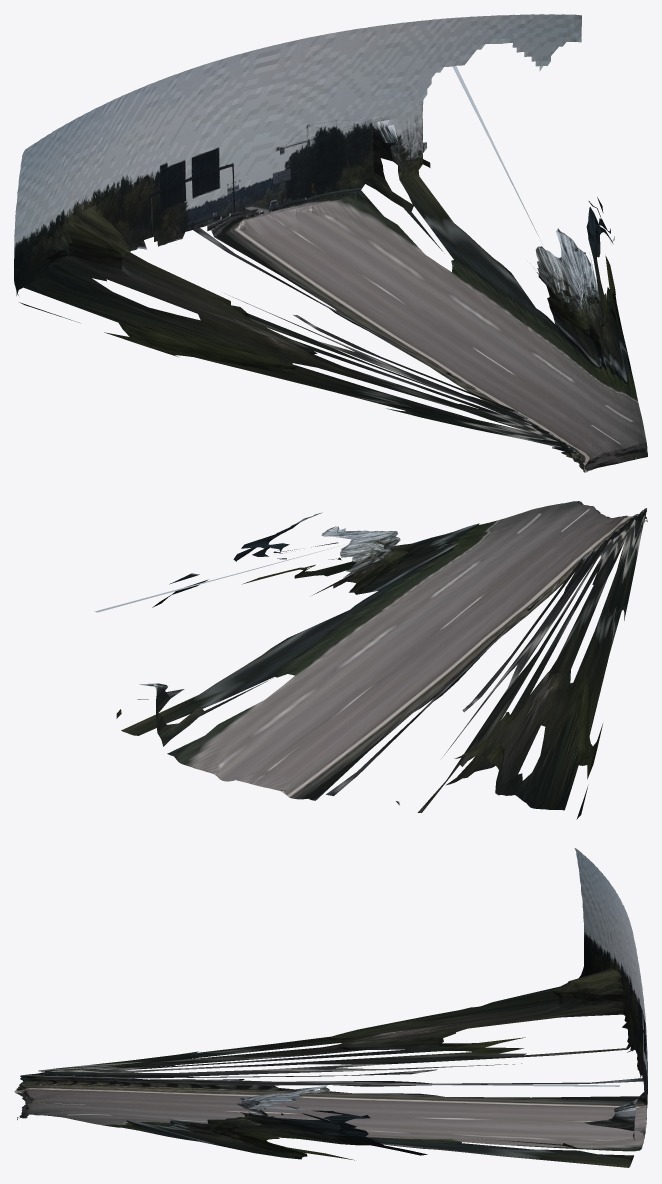
3 views of the same model, one above another, from view 1: azimuth 30°, elevation 25°; view 2: azimuth 150°, elevation 25°; view 3: azimuth 270°, elevation 25° (orthographic). The views are drawn at different scales.
Visible parts, largest first — view 1: defaultobject; view 2: defaultobject; view 3: defaultobject.
Boxes of the visible parts, <box> form: defaultobject: <box>14,14,647,472</box>; defaultobject: <box>94,501,647,819</box>; defaultobject: <box>14,848,647,1167</box>.
Bounding box in the file's own units: 40.97 × 12.47 × 44.67.
Materials: 1 (1 with a texture image).
